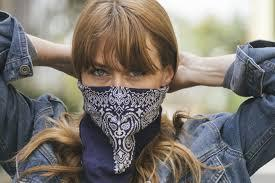scarf-kerchief: (72, 82, 172, 183)
